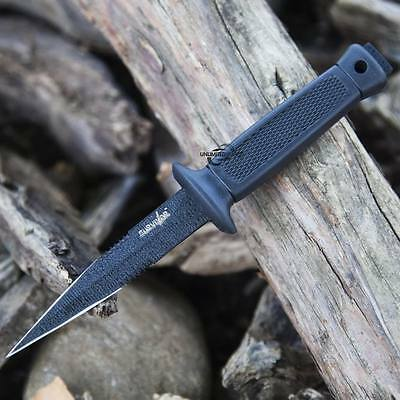knief: (10, 44, 389, 369)
